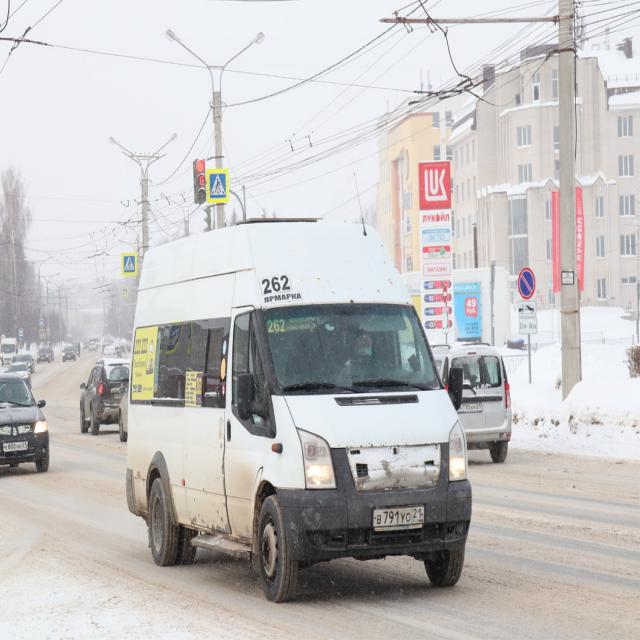number-of-bus: (259, 269, 293, 296), (267, 316, 289, 338)
